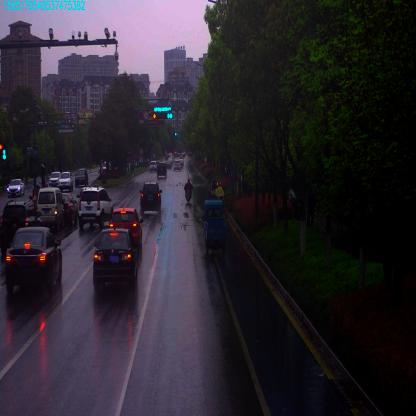traffic-light: (154, 106, 170, 111), (164, 112, 173, 120), (153, 112, 161, 121)
